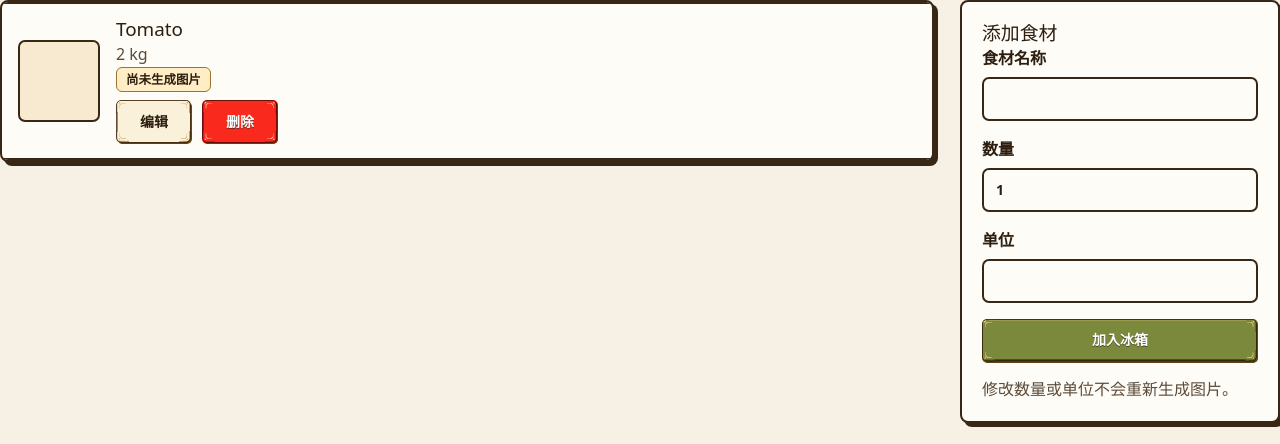
Test: FridgeWorkbench › prevents deletion while editing and restores row focus after cancel
Click the button "编辑": coordinates (154, 122) top-left (116, 100), bottom-right (192, 144)
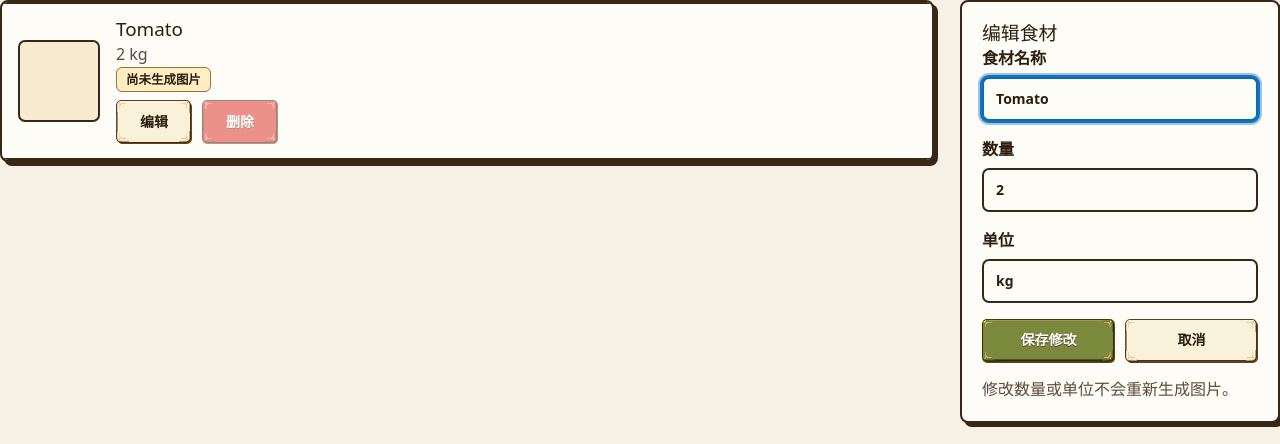
expect the button "删除" is disabled: met, box top-left (202, 100), bottom-right (278, 144)
Click the button "取消": coordinates (1192, 341) top-left (1125, 319), bottom-right (1258, 363)
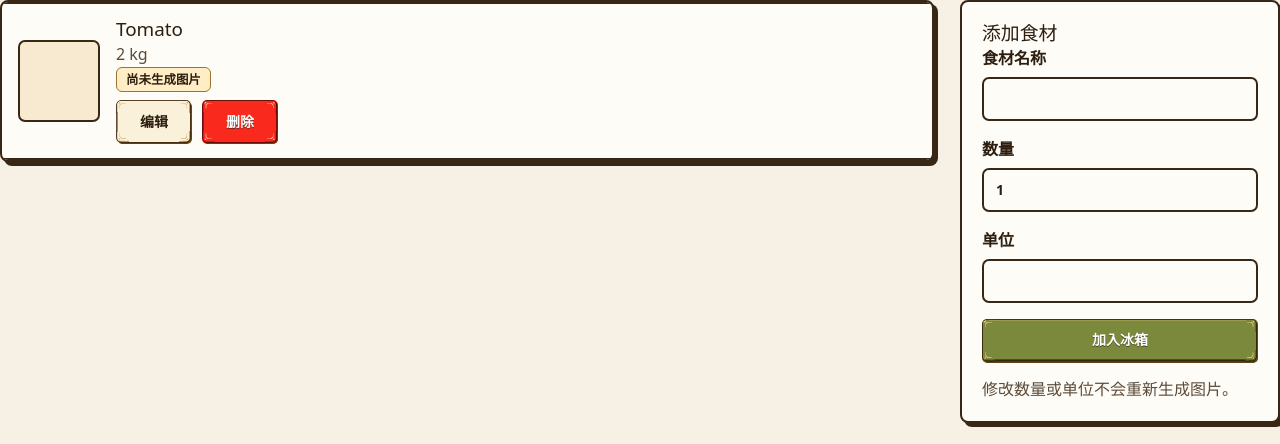
expect the button "删除" is enabled: met, box top-left (202, 100), bottom-right (278, 144)
